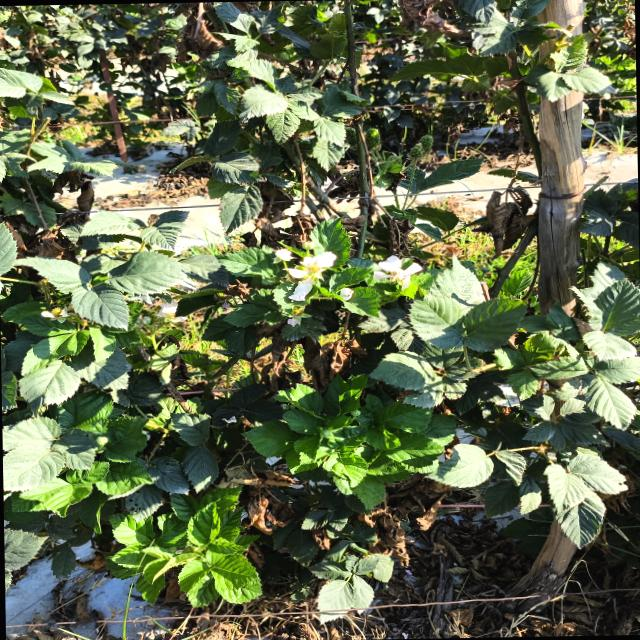flor: (373, 255, 422, 289), (285, 251, 337, 280), (157, 300, 187, 322), (41, 307, 68, 321), (274, 248, 295, 261), (338, 287, 353, 301)
